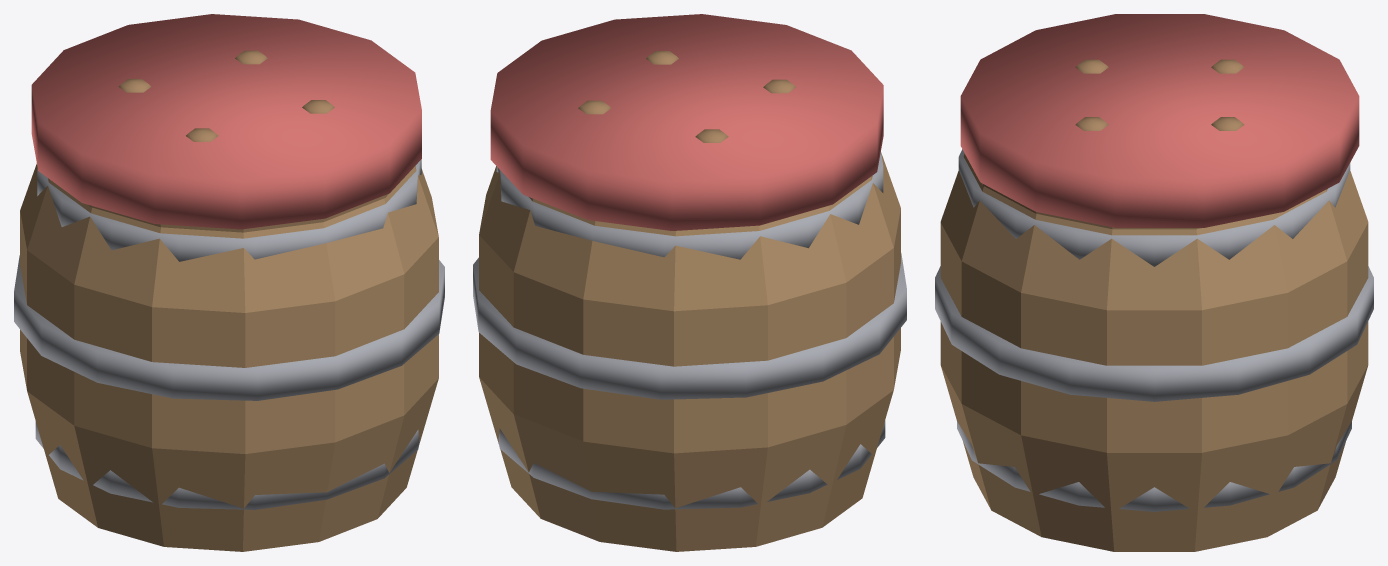
File: seat_04_fass.glb
3 views of the same model, side by side, from view 1: azimuth 30°, elevation 25°; view 2: azimuth 150°, elevation 25°; view 3: azimuth 270°, elevation 25° (orthographic).
Visible parts, largest first — view 1: seat_04_fass; view 2: seat_04_fass; view 3: seat_04_fass.
Boxes of the visible parts, left/top/right/bottom form: seat_04_fass: left=14, top=14, right=444, bottom=551; seat_04_fass: left=473, top=14, right=906, bottom=551; seat_04_fass: left=935, top=14, right=1373, bottom=551.
Size of the model in its own units: 0.48 by 0.4659 by 0.48.
